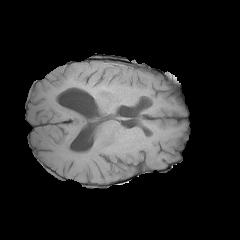glioma: (49, 63, 125, 102)
